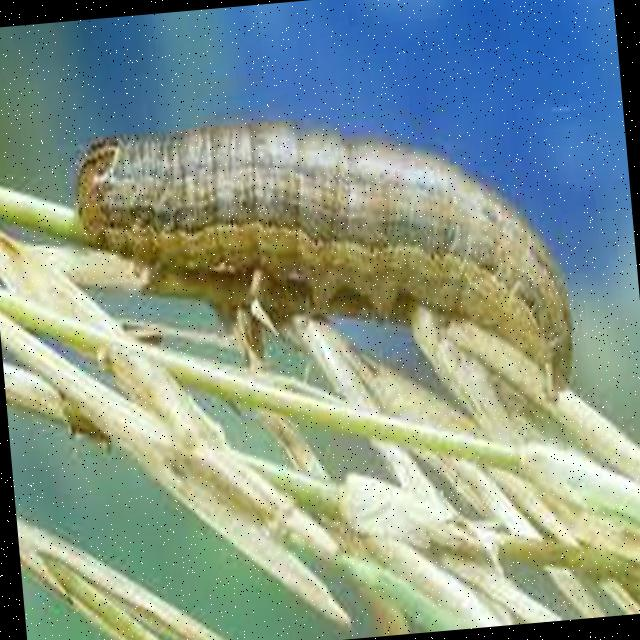worm: (1, 83, 640, 640), (67, 94, 583, 447)
